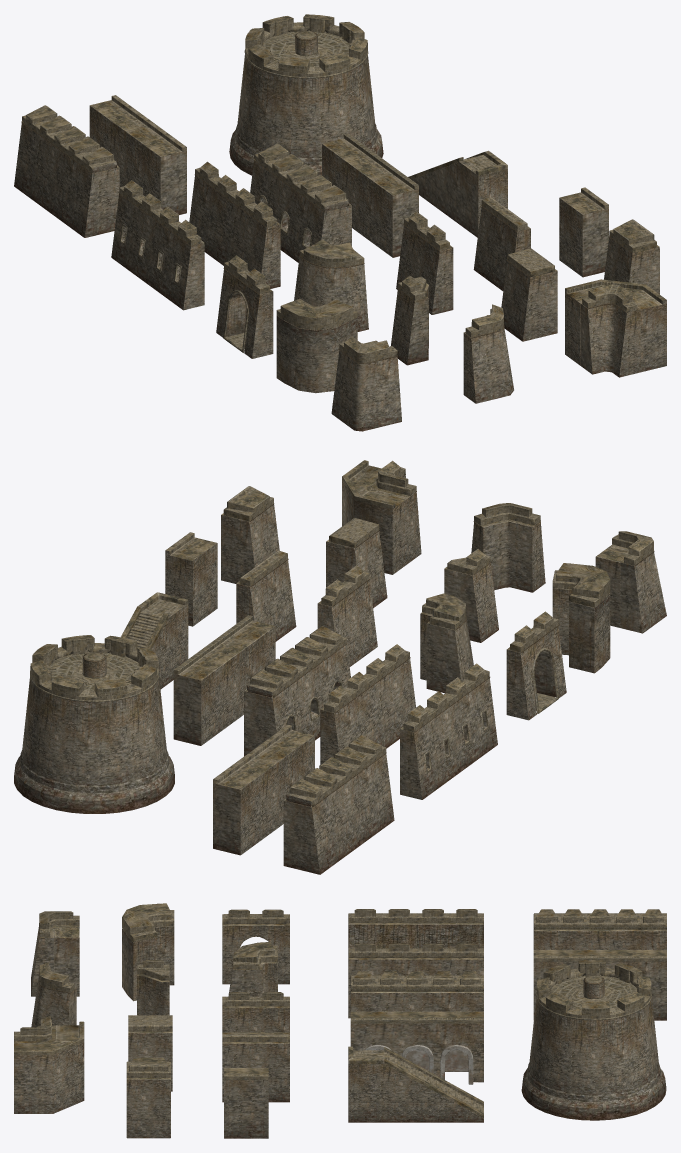
File: modular_fort_01.glb
3 renders of one model, top to bottom at view 1: azimuth 30°, elevation 25°; view 2: azimuth 150°, elevation 25°; view 3: azimuth 270°, elevation 25°, orthographic. The views are drawn at different scales.
Visible parts, largest first — view 1: modular_fort_01_tower_round, modular_fort_01_wall_thick_straight_01, modular_fort_01_wall_thin_straight_02, modular_fort_01_wall_thick_straight_02, modular_fort_01_wall_thin_straight_01, modular_fort_01_wall_walkway_straight_01, modular_fort_01_wall_walkway_straight_02, modular_fort_01_wall_thick_corner_02, modular_fort_01_wall_thin_corner_02, modular_fort_01_wall_thin_corner_01, modular_fort_01_wall_stairs_straight_01, modular_fort_01_wall_thin_gate_01 (+9 smaller); view 2: modular_fort_01_tower_round, modular_fort_01_wall_thick_straight_01, modular_fort_01_wall_thin_straight_02, modular_fort_01_wall_walkway_straight_01, modular_fort_01_wall_walkway_straight_02, modular_fort_01_wall_thick_straight_02, modular_fort_01_wall_thin_straight_01, modular_fort_01_wall_thick_corner_02, modular_fort_01_wall_thin_corner_03, modular_fort_01_wall_thin_gate_01, modular_fort_01_wall_thick_corner_01, modular_fort_01_wall_thick_end_02 (+10 smaller); view 3: modular_fort_01_tower_round, modular_fort_01_wall_stairs_straight_01, modular_fort_01_wall_walkway_straight_01, modular_fort_01_wall_walkway_corner_01, modular_fort_01_wall_thick_straight_02, modular_fort_01_wall_thick_straight_01, modular_fort_01_wall_thin_straight_02, modular_fort_01_wall_thin_straight_01, modular_fort_01_wall_thick_end_02, modular_fort_01_wall_thick_corner_02, modular_fort_01_wall_walkway_straight_02, modular_fort_01_wall_thin_straight_03 (+10 smaller).
Boxes of the visible parts, <box> form: modular_fort_01_tower_round: <box>229,14,383,175</box>; modular_fort_01_wall_thick_straight_01: <box>14,105,119,237</box>; modular_fort_01_wall_thin_straight_02: <box>111,180,204,310</box>; modular_fort_01_wall_thick_straight_02: <box>250,143,351,262</box>; modular_fort_01_wall_thin_straight_01: <box>189,161,280,288</box>; modular_fort_01_wall_walkway_straight_01: <box>322,133,418,257</box>; modular_fort_01_wall_walkway_straight_02: <box>89,95,186,214</box>; modular_fort_01_wall_thick_corner_02: <box>276,298,357,393</box>; modular_fort_01_wall_thin_corner_02: <box>331,336,401,431</box>; modular_fort_01_wall_thin_corner_01: <box>580,284,640,377</box>; modular_fort_01_wall_stairs_straight_01: <box>408,150,507,237</box>; modular_fort_01_wall_thin_gate_01: <box>216,255,273,358</box>; modular_fort_01_tower_round: <box>14,635,174,813</box>; modular_fort_01_wall_thick_straight_01: <box>283,735,394,874</box>; modular_fort_01_wall_thin_straight_02: <box>400,663,497,799</box>; modular_fort_01_wall_walkway_straight_01: <box>173,615,275,745</box>; modular_fort_01_wall_walkway_straight_02: <box>213,724,314,855</box>; modular_fort_01_wall_thick_straight_02: <box>244,626,350,756</box>; modular_fort_01_wall_thin_straight_01: <box>320,644,415,764</box>; modular_fort_01_wall_thick_corner_02: <box>552,563,610,673</box>; modular_fort_01_wall_thin_corner_03: <box>471,503,545,592</box>; modular_fort_01_wall_thin_gate_01: <box>506,611,566,720</box>; modular_fort_01_wall_thick_corner_01: <box>420,593,473,693</box>; modular_fort_01_wall_thick_end_02: <box>221,486,279,583</box>; modular_fort_01_tower_round: <box>521,960,666,1120</box>; modular_fort_01_wall_stairs_straight_01: <box>348,1046,483,1122</box>; modular_fort_01_wall_walkway_straight_01: <box>350,1011,483,1084</box>; modular_fort_01_wall_walkway_corner_01: <box>14,1021,84,1113</box>; modular_fort_01_wall_thick_straight_02: <box>350,971,483,1011</box>; modular_fort_01_wall_thick_straight_01: <box>533,909,666,949</box>; modular_fort_01_wall_thin_straight_02: <box>348,909,483,948</box>; modular_fort_01_wall_thin_straight_01: <box>348,943,483,1018</box>; modular_fort_01_wall_thick_end_02: <box>126,1057,170,1138</box>; modular_fort_01_wall_thick_corner_02: <box>122,903,174,1001</box>; modular_fort_01_wall_walkway_straight_02: <box>533,950,666,1020</box>; modular_fort_01_wall_thin_straight_03: <box>222,1032,289,1102</box>.
Size of the model in its own units: 42.67 by 13.58 by 71.38.
3 materials, 3 textured.
